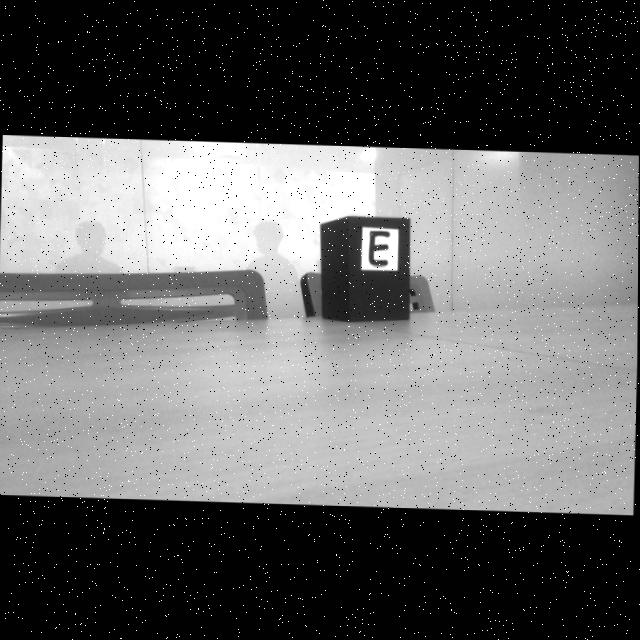E: (369, 230, 390, 265)
